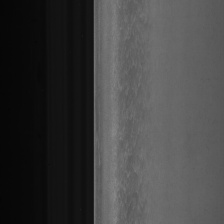silk_spot: (116, 10, 156, 209)
